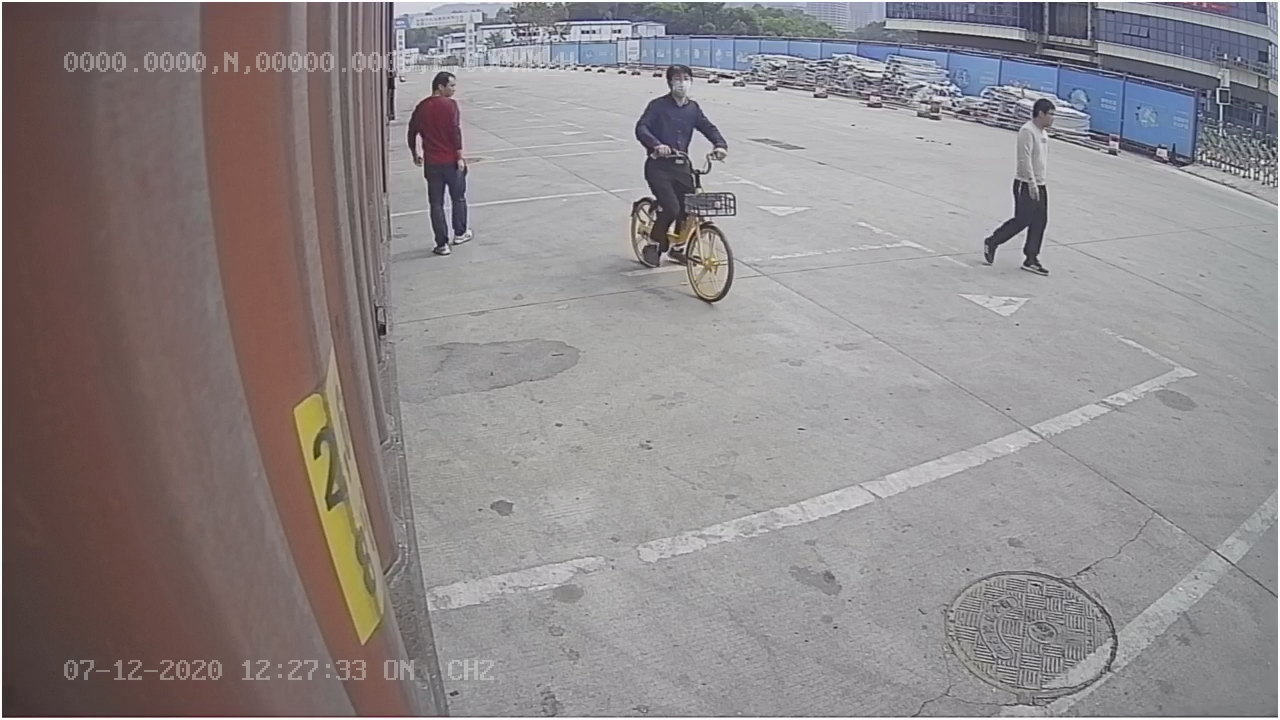person: (401, 67, 479, 262)
